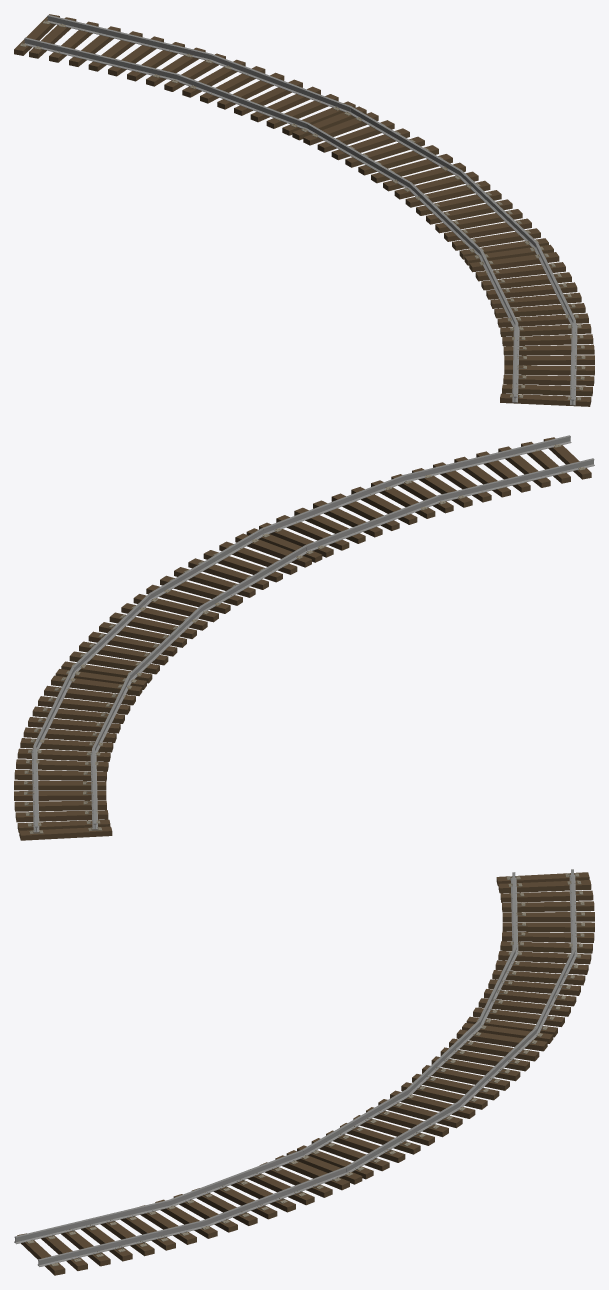
File: railway_turn_style_02.fbx
3 views of the same model, one above another, from view 1: azimuth 30°, elevation 25°; view 2: azimuth 150°, elevation 25°; view 3: azimuth 330°, elevation 25° (orthographic).
Visible parts, largest first — view 1: Trail; view 2: Trail; view 3: Trail.
Part boxes in pixels (left/top/right/bottom): Trail: left=14, top=14, right=594, bottom=406; Trail: left=14, top=435, right=594, bottom=840; Trail: left=14, top=869, right=594, bottom=1275.
Bounding box in the file's own units: 6360 × 301 × 26810.
